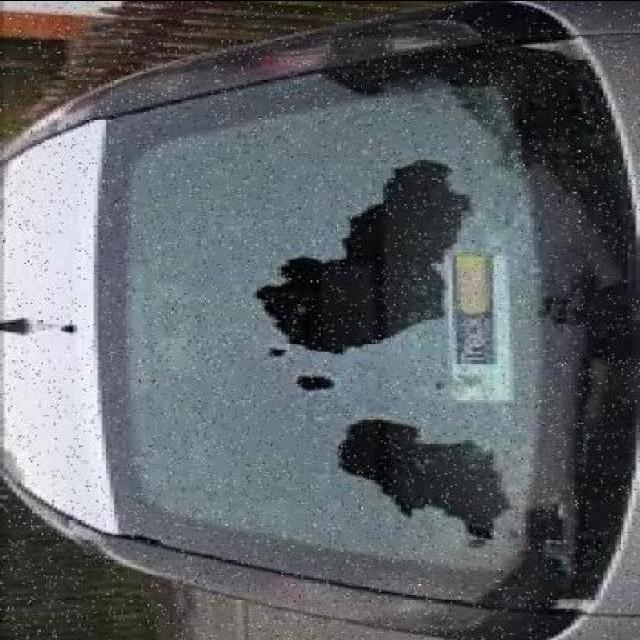Rear-windscreen-Damage: (61, 42, 637, 589)
